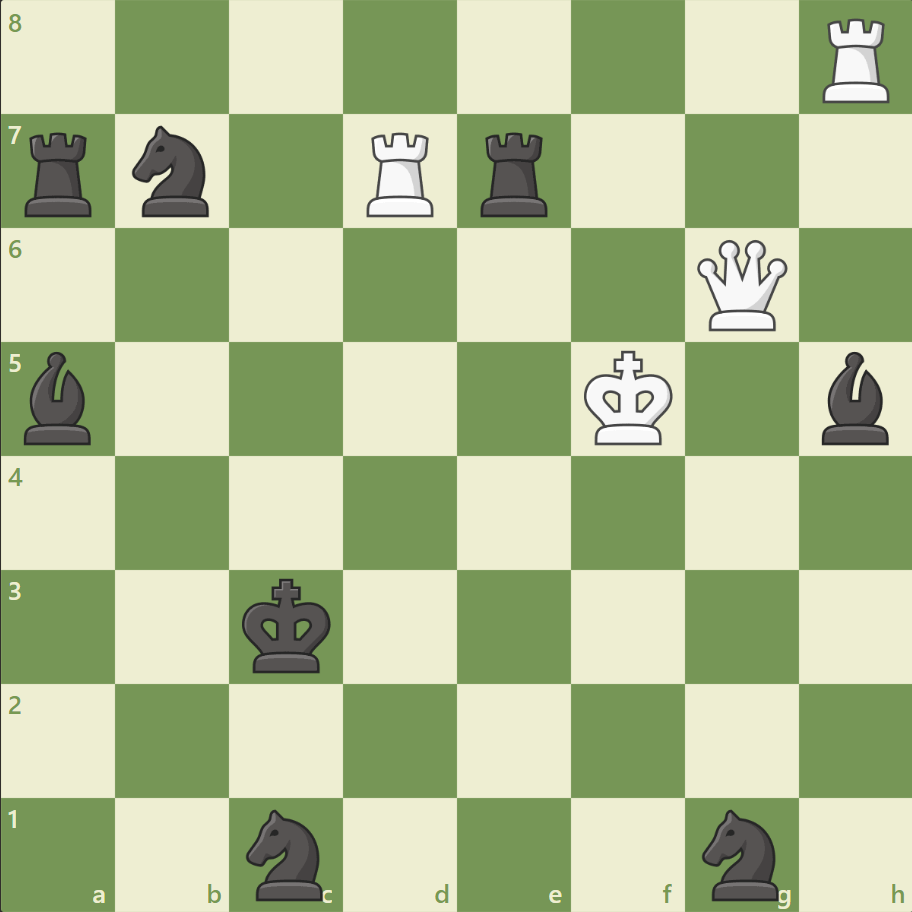K: (579, 344, 679, 452)
Q: (691, 236, 790, 335)
R: (814, 12, 897, 109), (360, 125, 442, 222)
b: (17, 347, 101, 449), (812, 347, 896, 449)
k: (238, 571, 338, 679)
n: (124, 121, 222, 223), (238, 802, 335, 904), (692, 802, 789, 904)
r: (19, 125, 102, 222), (473, 125, 556, 222)
